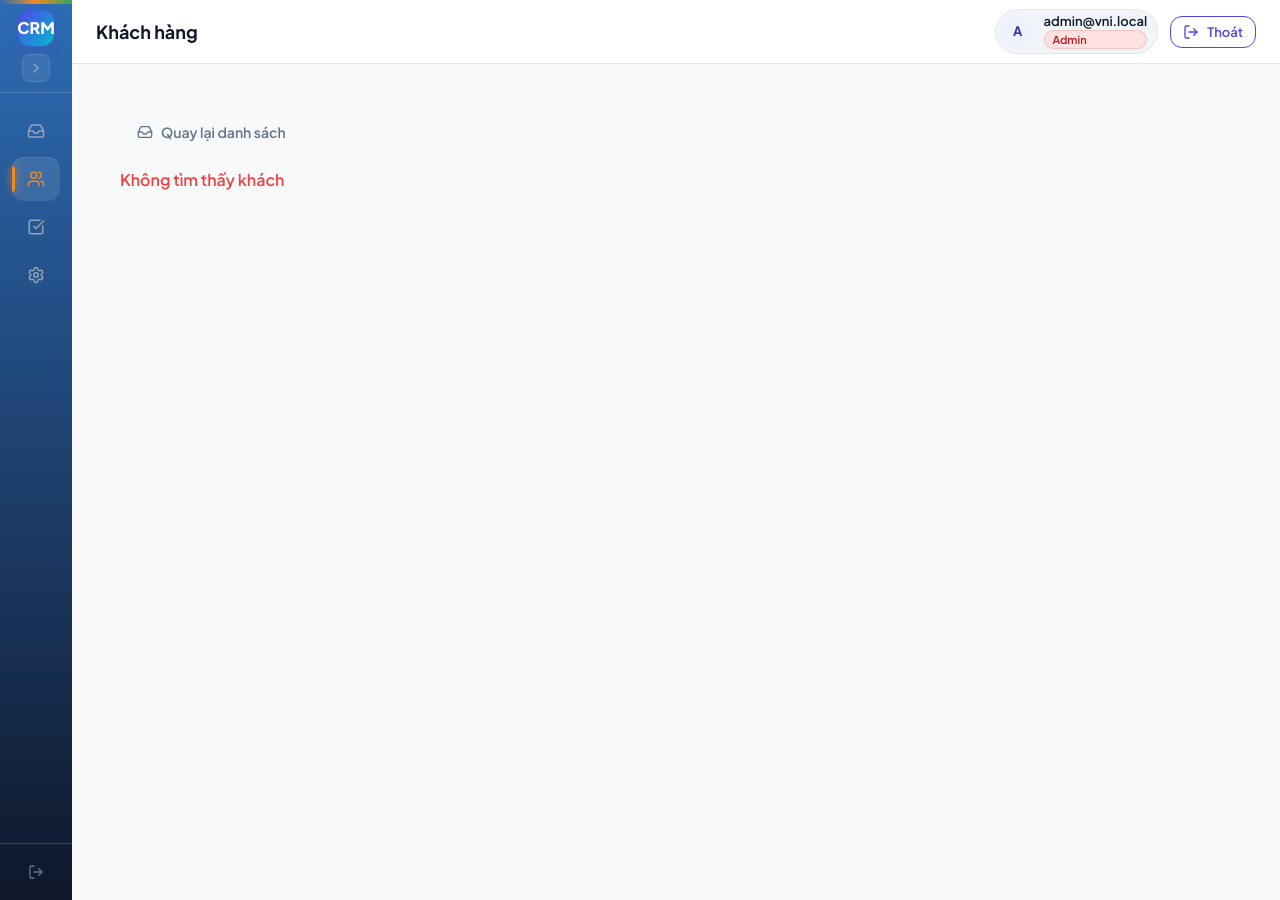
Test: F1 — route /customers/:id (App thật) › id không tồn tại (404) hiện "Không tìm thấy khách" + nút về danh sách, không crash
This screenshot has width=1280, height=900.
Expected: the text with test id "customer-profile-error" reads "Không tìm thấy khách", [120, 169, 284, 190]
Click the button with test id "btn-profile-back-list" at (211, 132), box [120, 112, 303, 152]
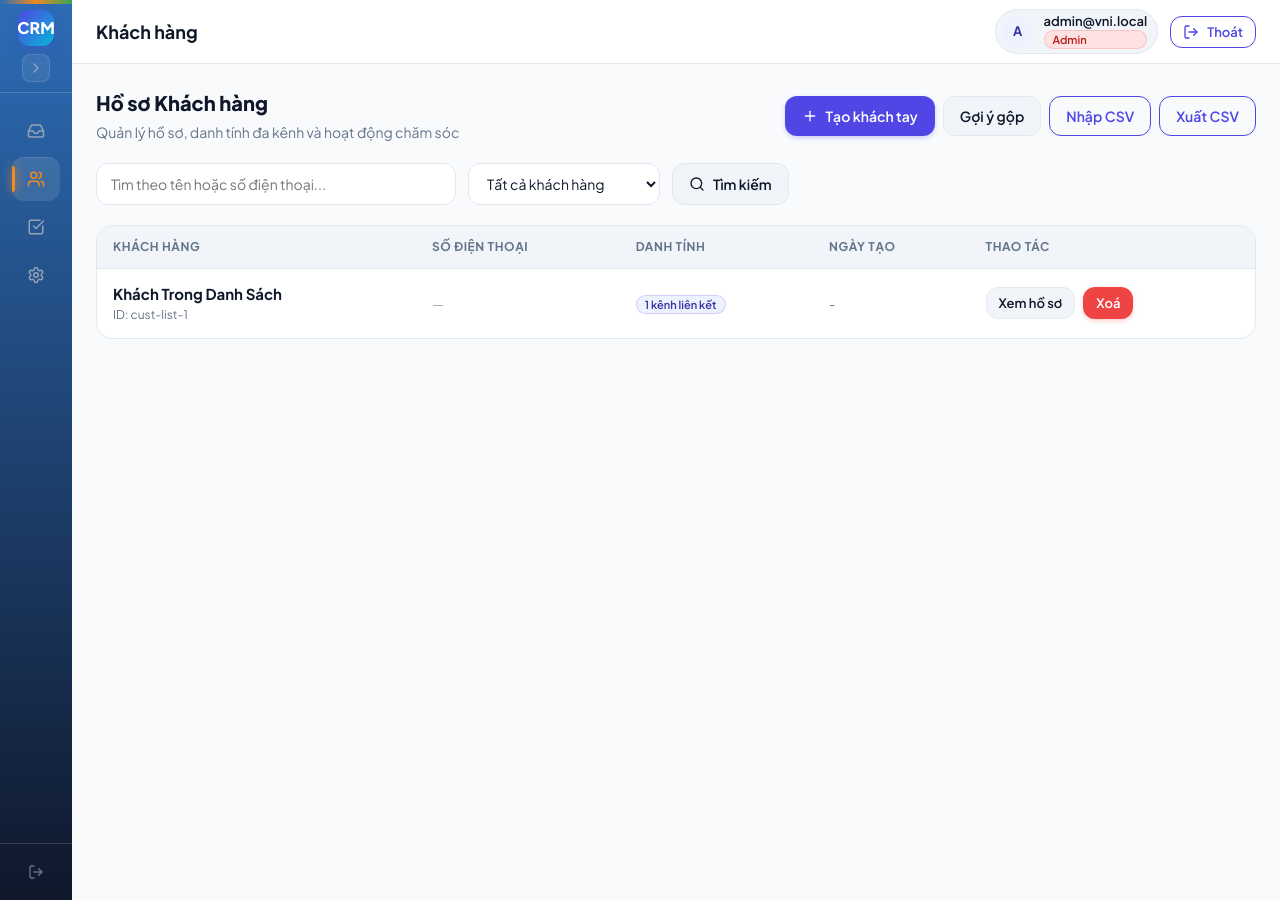
Now the row with test id "customer-row-cust-list-1" is shown, box [97, 268, 1255, 338]
